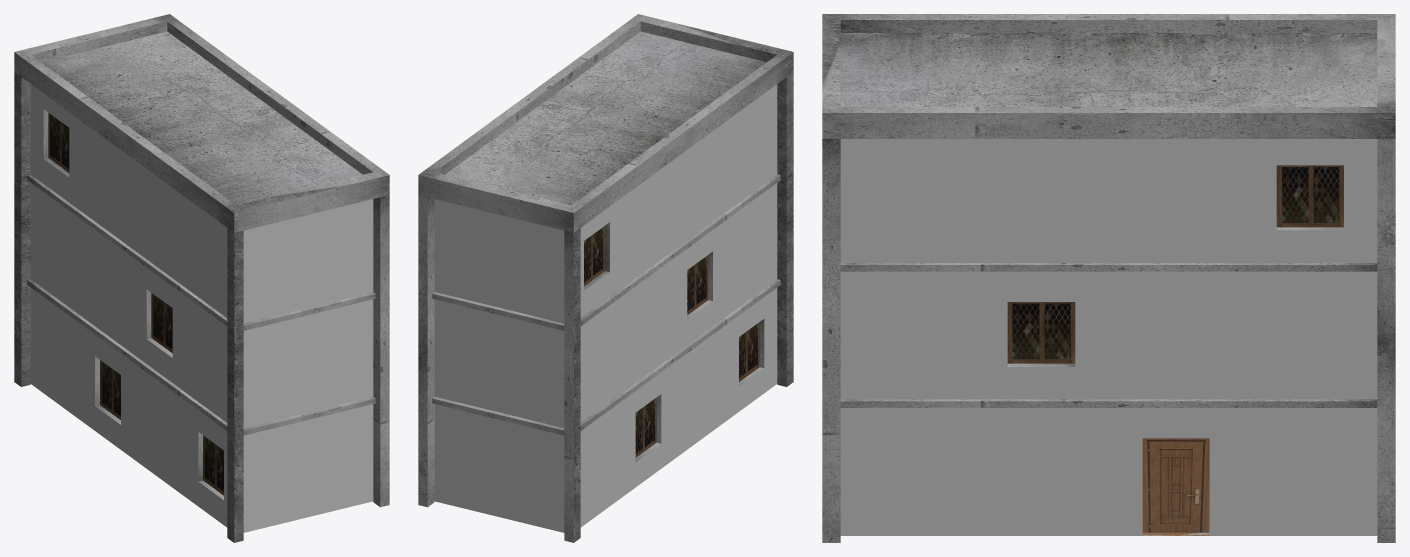
File: BunkBuildingA.fbx
3 views of the same model, side by side, from view 1: azimuth 30°, elevation 25°; view 2: azimuth 150°, elevation 25°; view 3: azimuth 270°, elevation 25° (orthographic). The views are drawn at different scales.
Visible parts, largest first — view 1: BunkBuildingA; view 2: BunkBuildingA; view 3: BunkBuildingA.
Part boxes in pixels (x1,y1,x2,y2): BunkBuildingA: (14, 14, 389, 542); BunkBuildingA: (418, 14, 793, 542); BunkBuildingA: (822, 14, 1395, 542).
Size of the model in its own units: 326 by 662 by 800.
